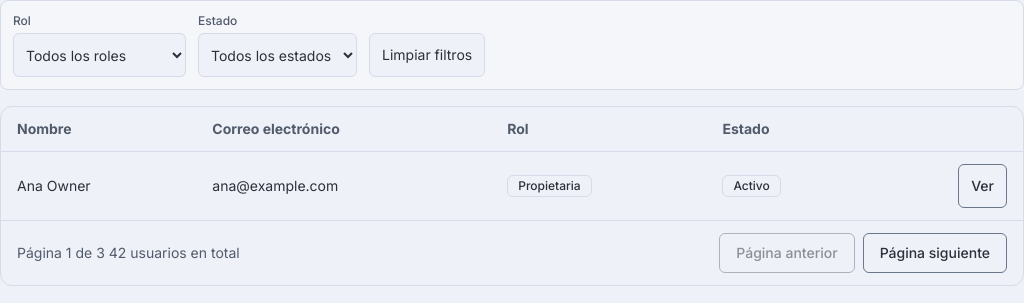
Scenario: UserList (R1.1, R1.2, R1.3) › pagination (R1.1) › disables 'next' on the last page
The image size is (1024, 303).
Click the button "Página siguiente": coordinates (935, 253) [863,233,1007,273]
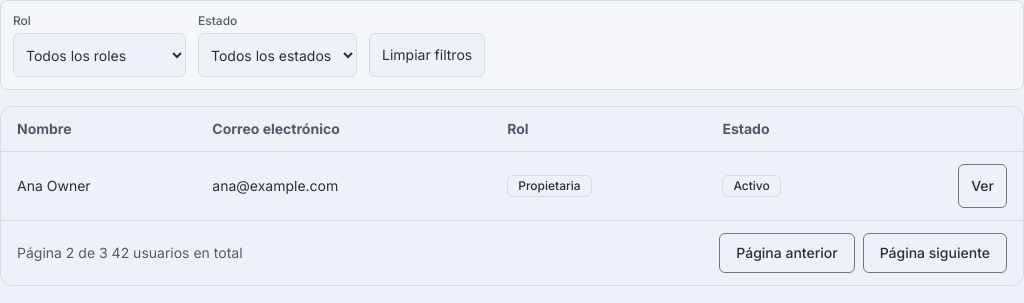
Click the button "Página siguiente": coordinates (935, 253) [863,233,1007,273]
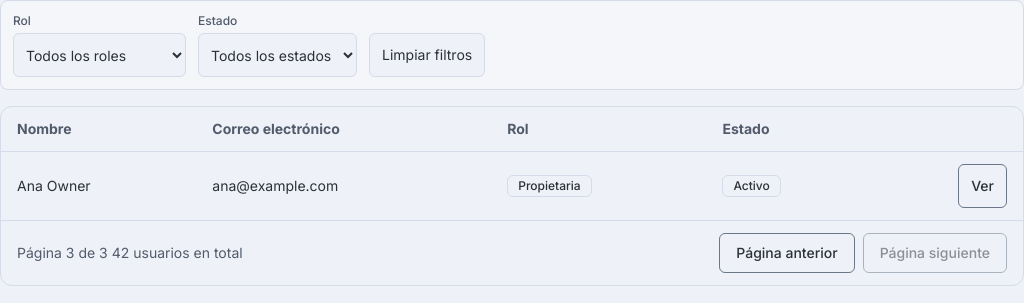
Result: the button "Página anterior" is enabled at [719,233,855,273]
Result: the text "Página 3 de 3 42 usuarios en total" is shown at [17,243,243,263]
Result: the button "Página siguiente" is disabled at [863,233,1007,273]
